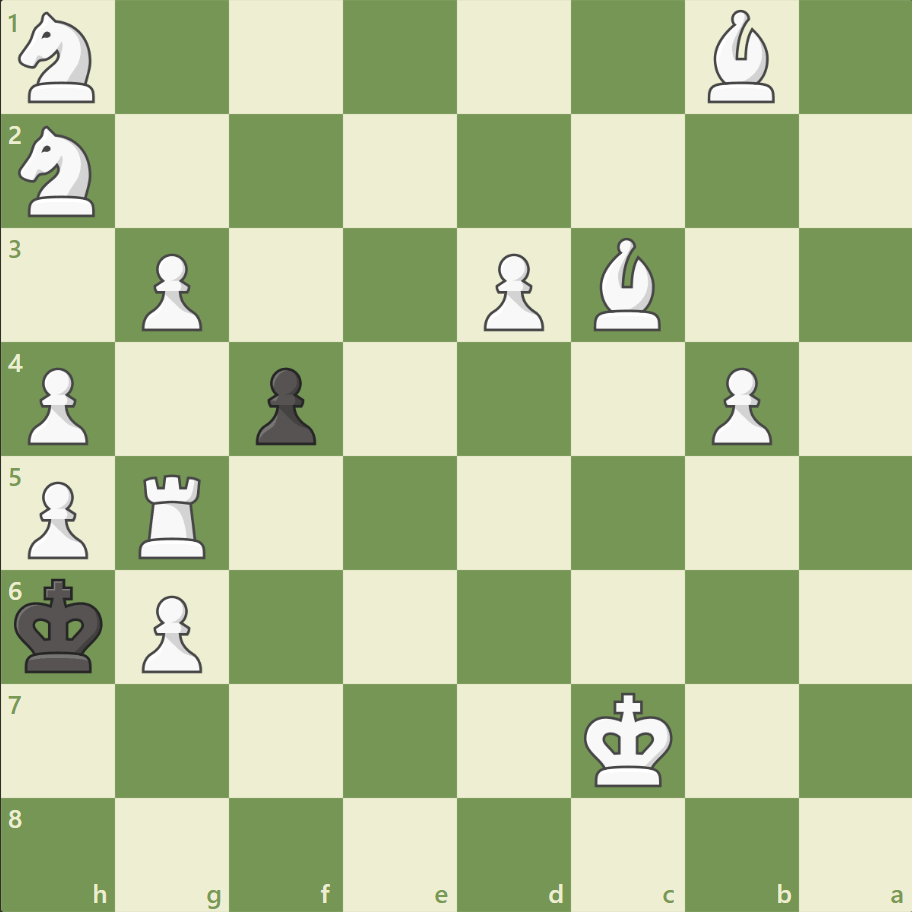B: (585, 233, 669, 336), (698, 6, 782, 109)
K: (579, 685, 679, 793)
N: (11, 7, 108, 110), (11, 121, 108, 223)
P: (133, 586, 208, 677), (20, 473, 95, 564), (701, 359, 776, 450), (20, 359, 95, 450), (474, 246, 549, 337), (133, 246, 208, 337)
R: (133, 466, 215, 563)
k: (11, 571, 111, 679)
p: (247, 359, 322, 450)
